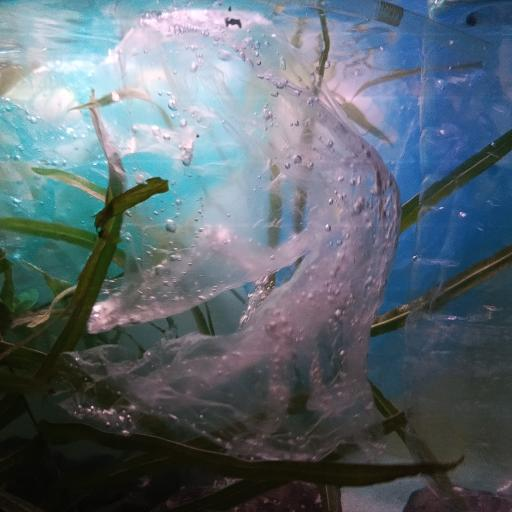plastic_bag: (6, 12, 408, 476), (282, 36, 512, 350), (4, 82, 213, 296)
